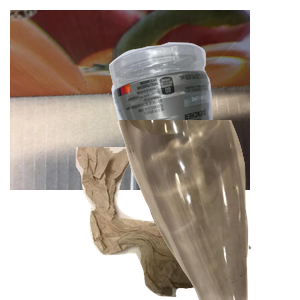cardboard: (10, 10, 250, 190)
glass: (115, 120, 300, 300)
plastic: (106, 40, 300, 220)
trash: (73, 147, 300, 300)
